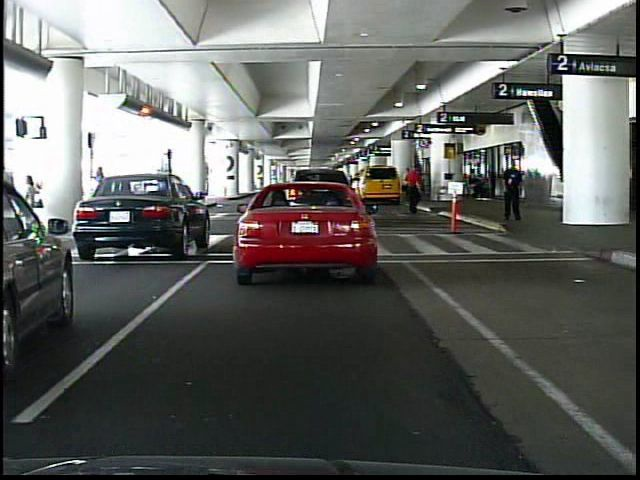person: (85, 163, 116, 243), (504, 155, 526, 224), (21, 171, 42, 240), (407, 164, 425, 217), (405, 166, 418, 202)
